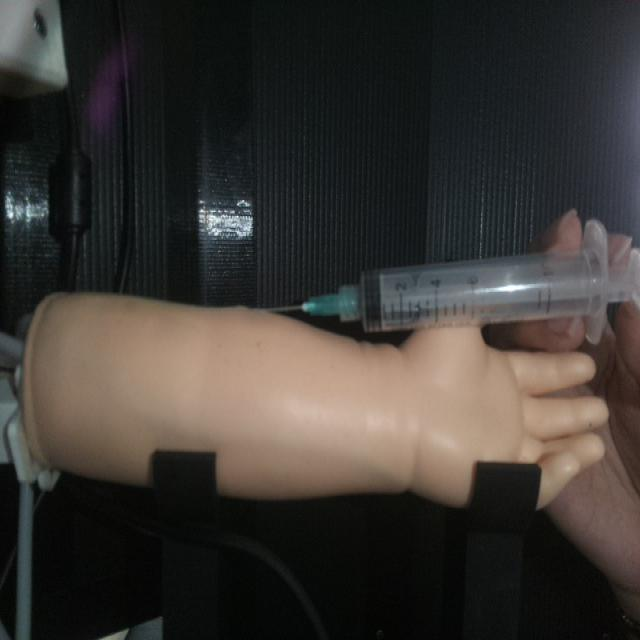Outside: (265, 216, 638, 344)
